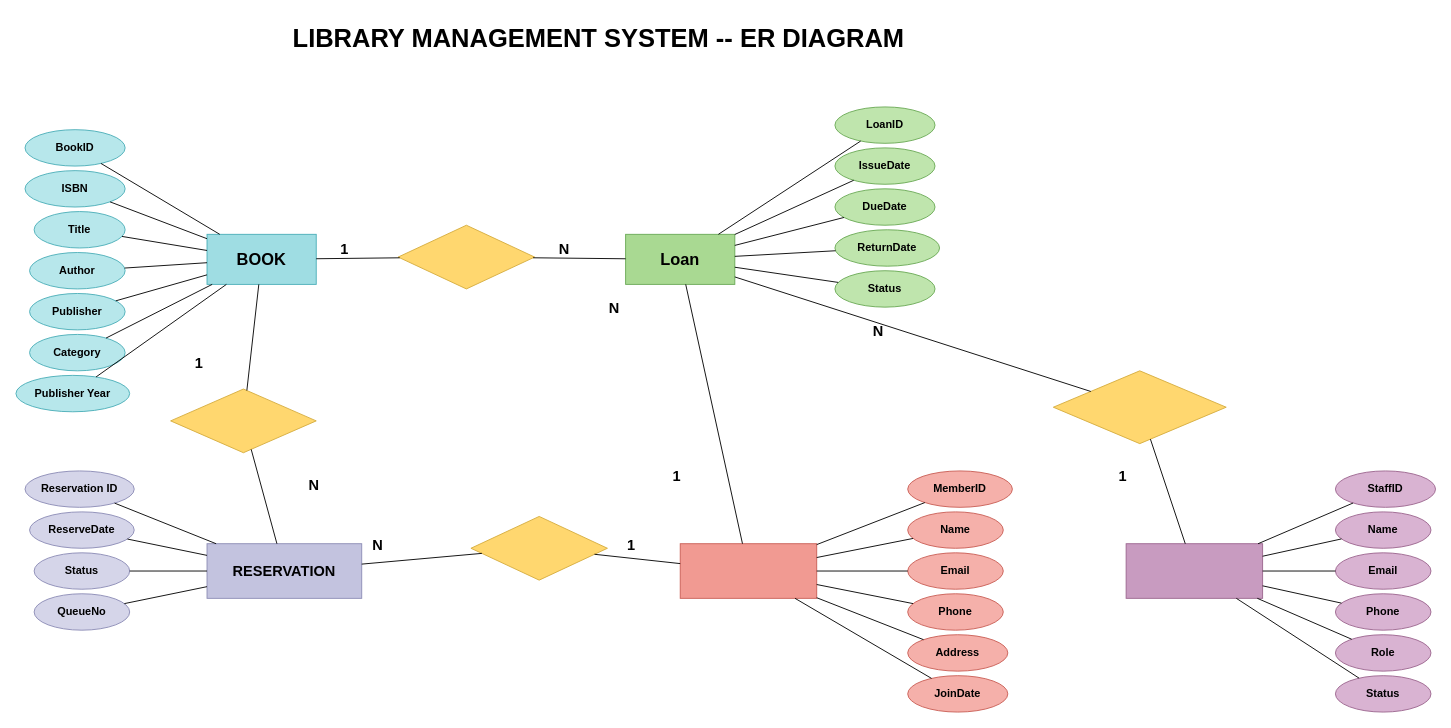
Some shapes in this 1451 by 728 pixel diagram are drawn without their labels. Each missing label, with the centre of its shape:
"IS_LOANED" belongs at (466,256).
"IS_RESERVED" belongs at (243,420).
"MADE_BY" belongs at (538,548).
"MEMBER" belongs at (748,570).
"PROCESSED_BY" belongs at (1139,407).
"STAFF" belongs at (1194,570).
